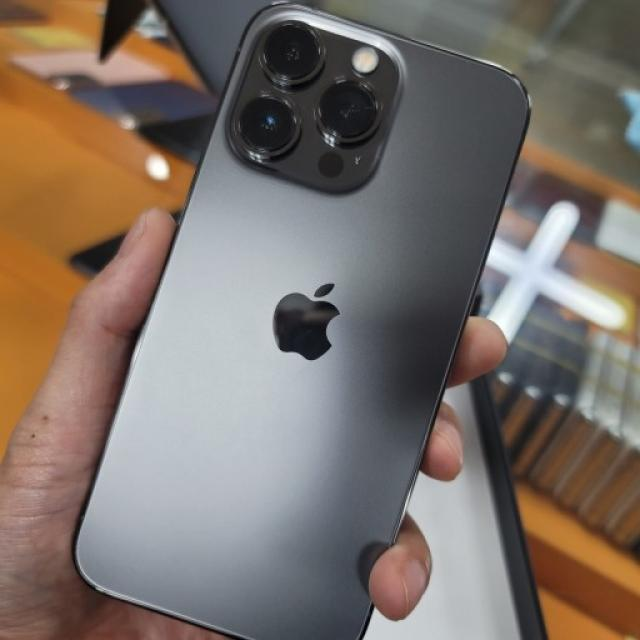phone: (67, 4, 532, 640)
